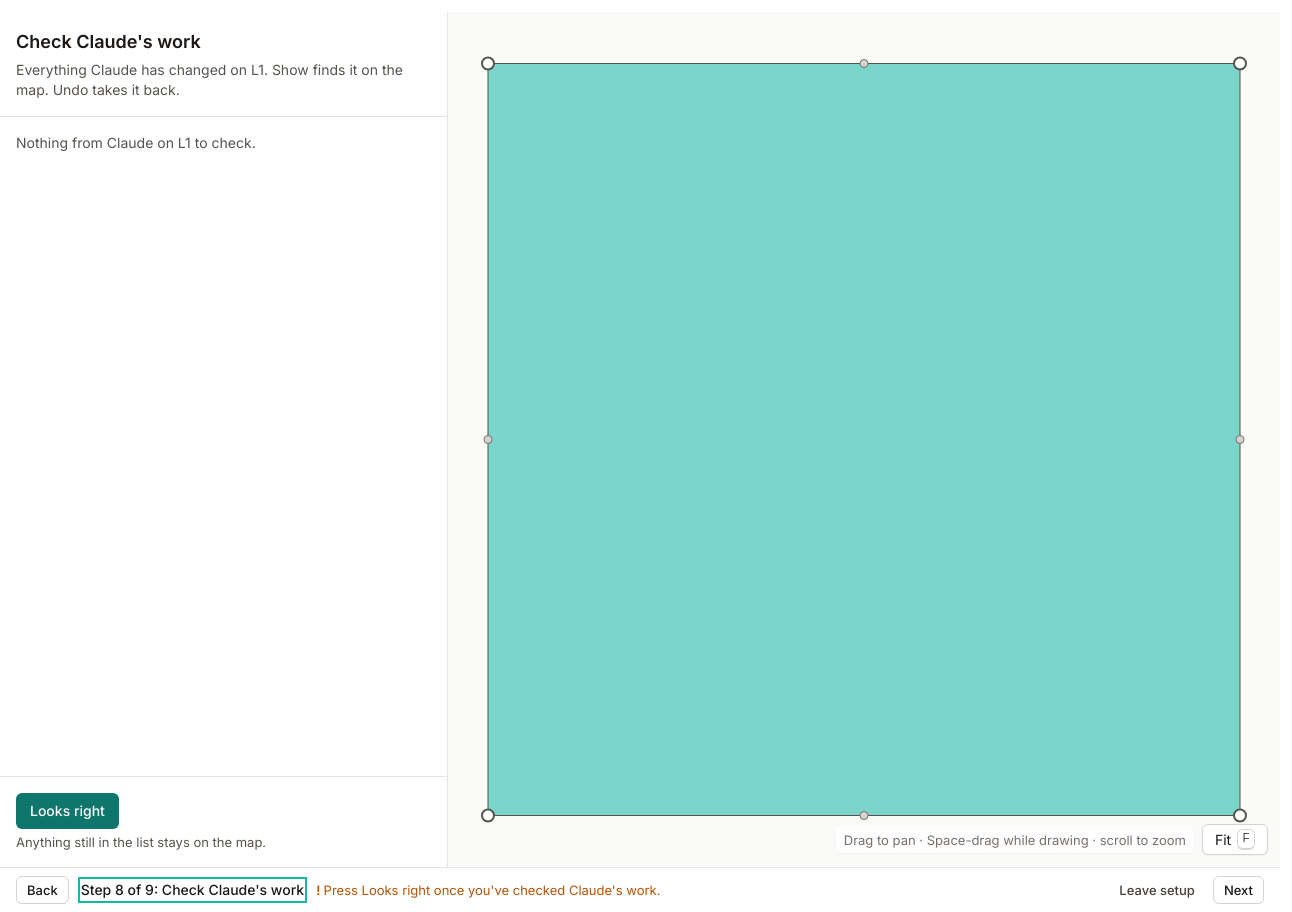
Test: SetupWizard › lets go of the map's selection on a Claude step, and keeps Show's on Check
Expected: the button "Looks right" is shown, x1=16 y1=793 x2=119 y2=829
Click the button "Back" at (42, 890), box x1=16 y1=876 x2=69 y2=904
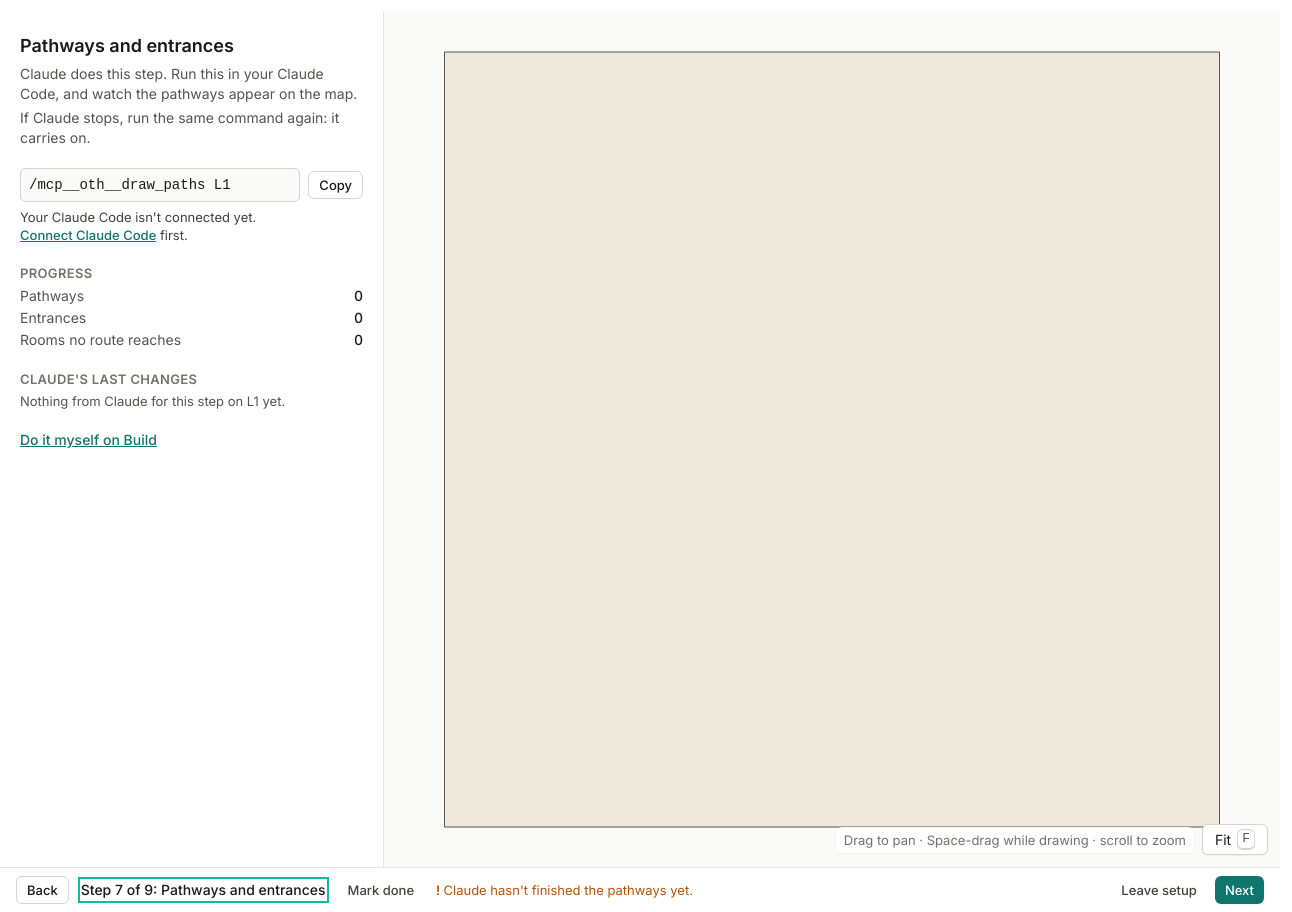
Expected: the element named "Command for Claude Code" is shown, x1=20 y1=168 x2=300 y2=202
